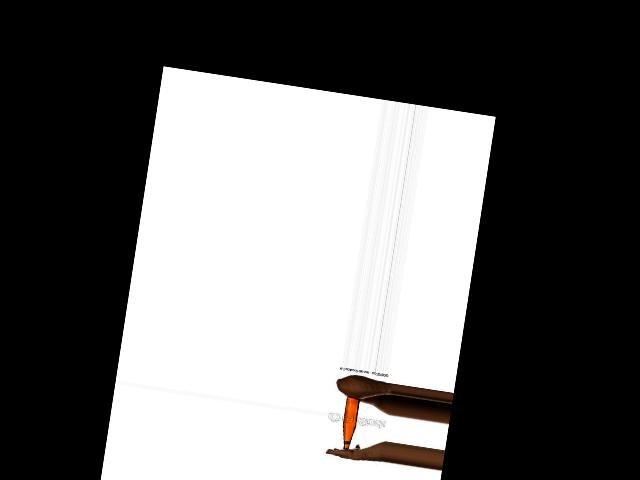beer: (339, 397, 361, 451)
